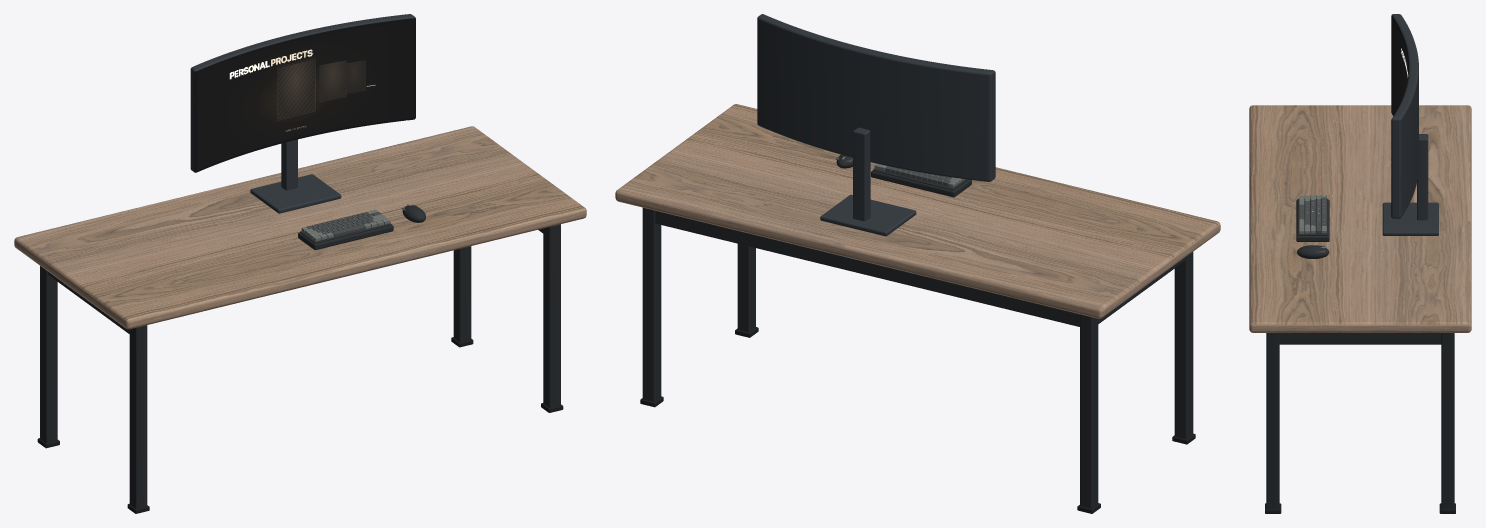
File: station-projects.glb
3 views of the same model, side by side, from view 1: azimuth 30°, elevation 25°; view 2: azimuth 150°, elevation 25°; view 3: azimuth 270°, elevation 25° (orthographic). The views are drawn at different scales.
Parts seen in each view (by area): view 1: Reorder_Projects_Personal_Desktop, Screen_Ultrawide_Projects, Reorder_Projects_Personal_Ultrawide_Housing, Reorder_Projects_Personal_Leg, Reorder_Projects_Personal_Leg.002, Reorder_Projects_Personal_Leg.001, Projects_Keyboard_60, Reorder_Projects_Personal_Ultrawide_StandBase, Reorder_Projects_Personal_Leg.003, Reorder_Projects_Personal_Ultrawide_StandStem; view 2: Reorder_Projects_Personal_Desktop, Reorder_Projects_Personal_Ultrawide_Housing, Reorder_Projects_Personal_RearRail, Reorder_Projects_Personal_Leg.003, Reorder_Projects_Personal_Leg.001, Reorder_Projects_Personal_Leg, Reorder_Projects_Personal_Ultrawide_StandBase, Projects_Keyboard_60, Reorder_Projects_Personal_Ultrawide_StandStem, Reorder_Projects_Personal_Leg.002; view 3: Reorder_Projects_Personal_Desktop, Reorder_Projects_Personal_Ultrawide_Housing, Reorder_Projects_Personal_Leg.002, Reorder_Projects_Personal_Leg.003, Reorder_Projects_Personal_SideRail.001, Projects_Keyboard_60, Reorder_Projects_Personal_Ultrawide_StandBase, Screen_Ultrawide_Projects, Reorder_Projects_Personal_Ultrawide_StandStem, Projects_Mouse.
Boxes of the visible parts, bbox=[...] form: Reorder_Projects_Personal_Desktop: bbox=[14, 126, 586, 329]; Screen_Ultrawide_Projects: bbox=[197, 20, 413, 169]; Reorder_Projects_Personal_Ultrawide_Housing: bbox=[190, 14, 415, 172]; Reorder_Projects_Personal_Leg: bbox=[129, 325, 147, 508]; Reorder_Projects_Personal_Leg.002: bbox=[543, 224, 560, 407]; Reorder_Projects_Personal_Leg.001: bbox=[40, 266, 57, 443]; Projects_Keyboard_60: bbox=[298, 209, 393, 249]; Reorder_Projects_Personal_Ultrawide_StandBase: bbox=[250, 174, 341, 213]; Reorder_Projects_Personal_Leg.003: bbox=[453, 246, 471, 342]; Reorder_Projects_Personal_Ultrawide_StandStem: bbox=[281, 139, 297, 190]; Reorder_Projects_Personal_Desktop: bbox=[615, 104, 1220, 318]; Reorder_Projects_Personal_Ultrawide_Housing: bbox=[757, 14, 995, 181]; Reorder_Projects_Personal_RearRail: bbox=[655, 210, 1079, 326]; Reorder_Projects_Personal_Leg.003: bbox=[642, 207, 661, 401]; Reorder_Projects_Personal_Leg.001: bbox=[1080, 314, 1098, 508]; Reorder_Projects_Personal_Leg: bbox=[1174, 252, 1193, 439]; Reorder_Projects_Personal_Ultrawide_StandBase: bbox=[820, 194, 916, 236]; Projects_Keyboard_60: bbox=[871, 163, 971, 197]; Reorder_Projects_Personal_Ultrawide_StandStem: bbox=[853, 127, 870, 221]; Reorder_Projects_Personal_Leg.002: bbox=[737, 244, 755, 332]; Reorder_Projects_Personal_Desktop: bbox=[1249, 105, 1471, 332]; Reorder_Projects_Personal_Ultrawide_Housing: bbox=[1391, 14, 1418, 218]; Reorder_Projects_Personal_Leg.002: bbox=[1266, 333, 1279, 509]; Reorder_Projects_Personal_Leg.003: bbox=[1441, 333, 1454, 509]; Reorder_Projects_Personal_SideRail.001: bbox=[1279, 333, 1441, 344]; Projects_Keyboard_60: bbox=[1296, 195, 1329, 241]; Reorder_Projects_Personal_Ultrawide_StandBase: bbox=[1382, 202, 1438, 235]; Screen_Ultrawide_Projects: bbox=[1391, 18, 1408, 115]; Reorder_Projects_Personal_Ultrawide_StandStem: bbox=[1417, 134, 1428, 220]; Projects_Mouse: bbox=[1297, 245, 1329, 258].
Bounding box in the file's own units: 1.75 × 1.33 × 0.75.
Materials: 12 (6 with a texture image).
